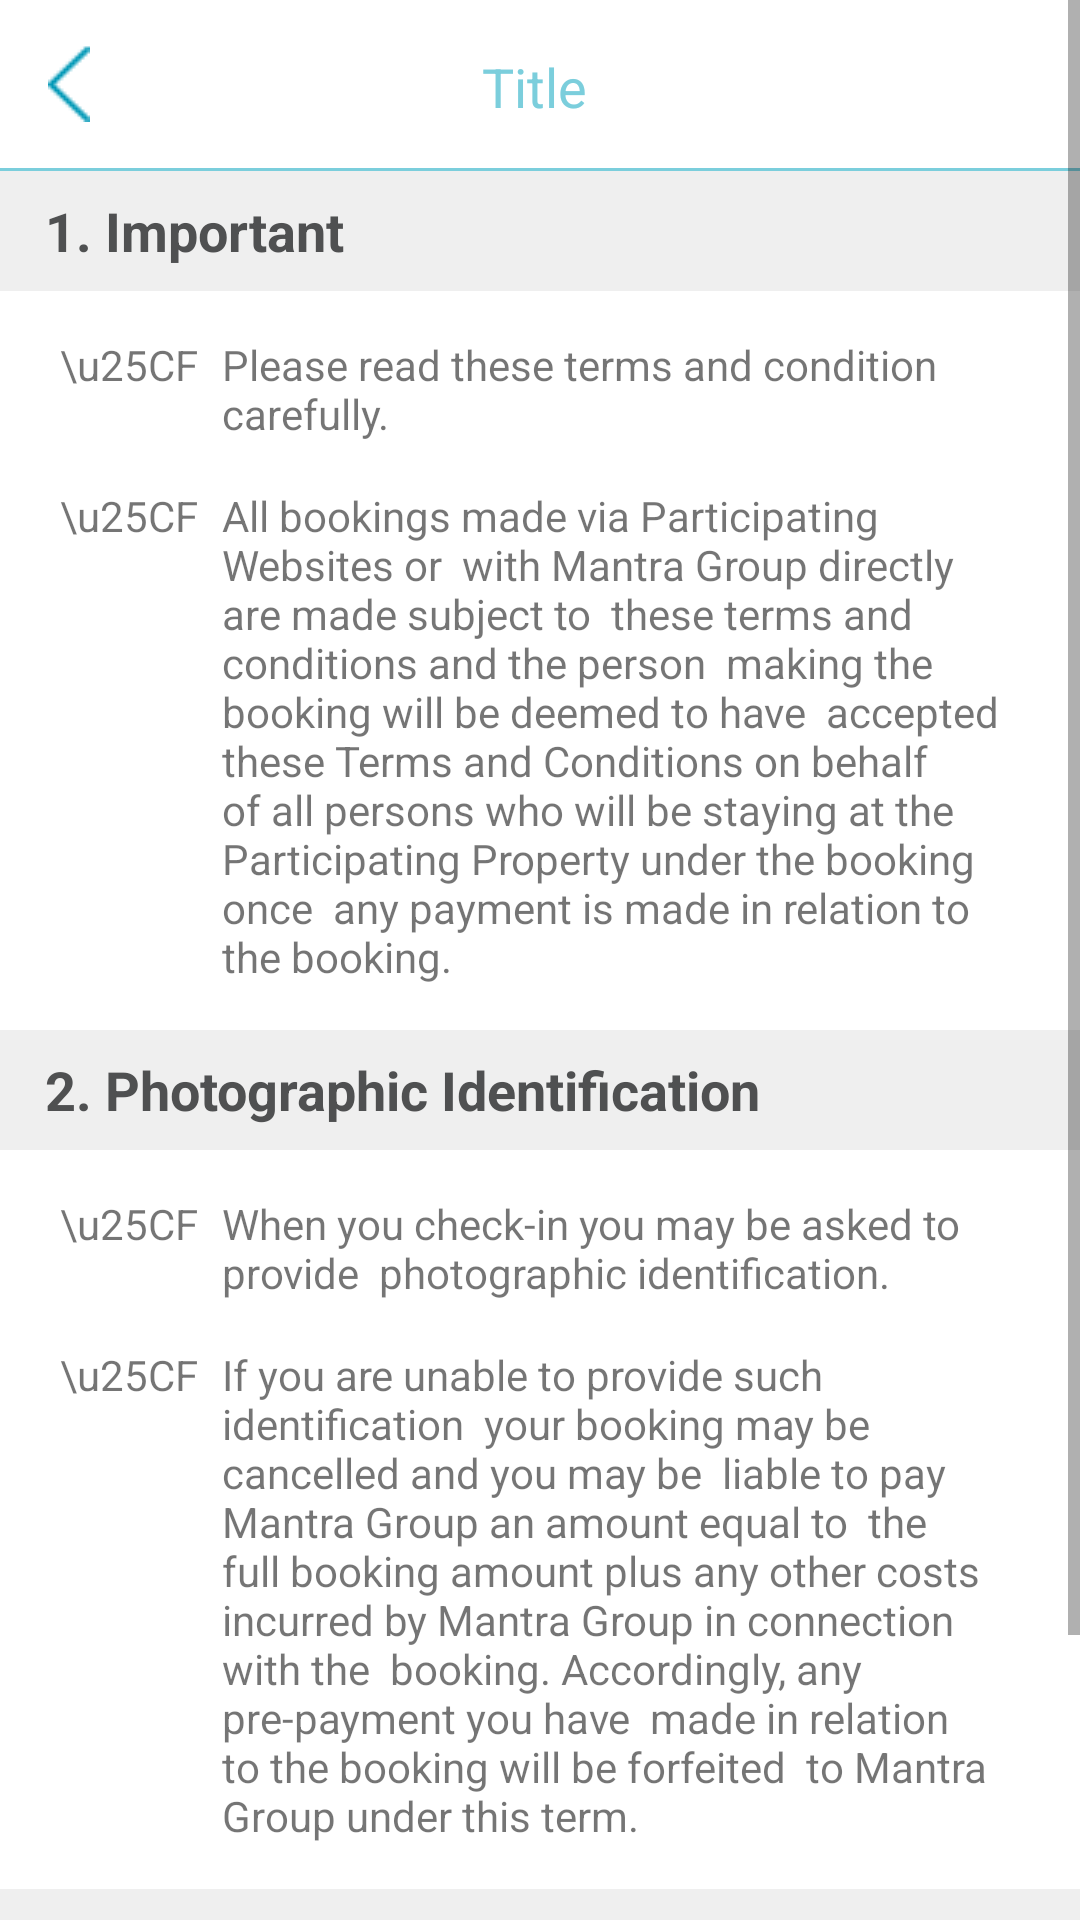

Icons on this 1080 x 1920 Android screen, each with its box as BBox(x1, y1, x2, y2):
left arrow: BBox(48, 46, 90, 122)
